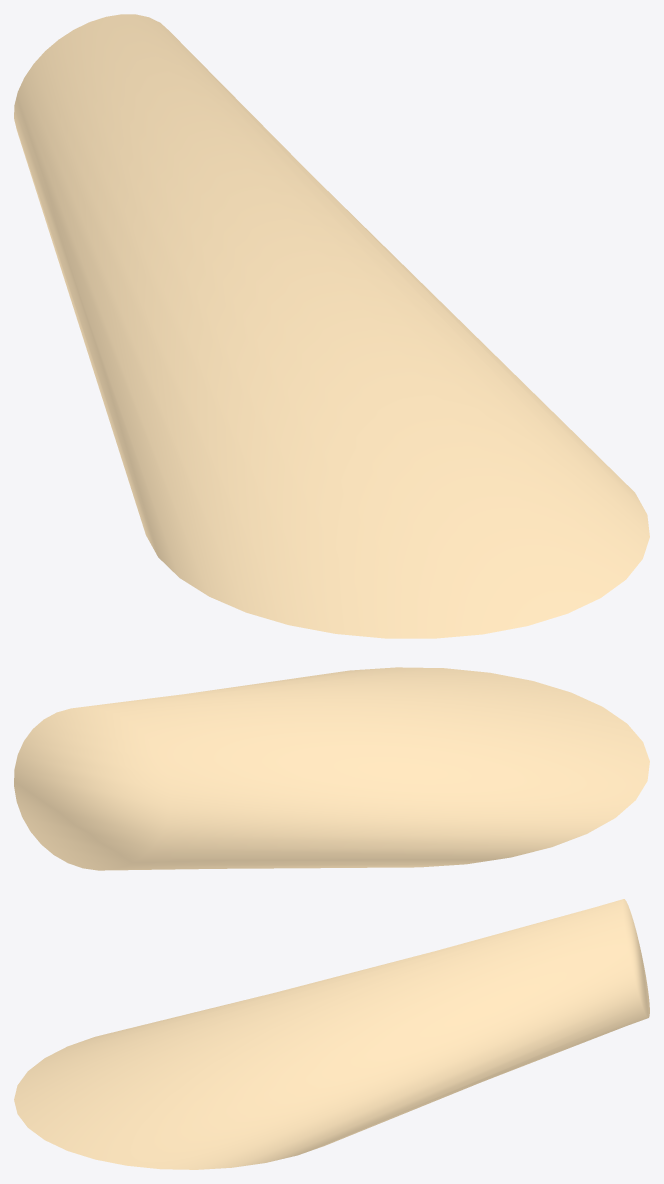
Rendered from light streak.glb.
3 views of the same model, one above another, from view 1: azimuth 30°, elevation 25°; view 2: azimuth 150°, elevation 25°; view 3: azimuth 270°, elevation 25° (orthographic). The views are drawn at different scales.
Visible parts, largest first — view 1: Cylinder_9; view 2: Cylinder_9; view 3: Cylinder_9.
Part boxes in pixels (left/top/right/bottom): Cylinder_9: left=14, top=14, right=649, bottom=638; Cylinder_9: left=14, top=667, right=649, bottom=870; Cylinder_9: left=14, top=899, right=649, bottom=1169.
Bounding box in the file's own units: 2.07 × 1.3 × 3.77.
